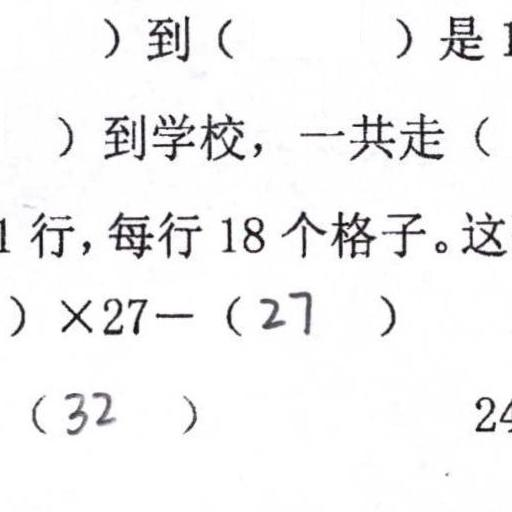ans: (57, 383, 115, 435), (254, 284, 313, 335)
